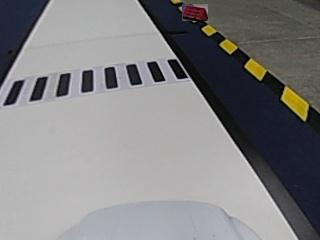crosswalk: (4, 57, 187, 107)
